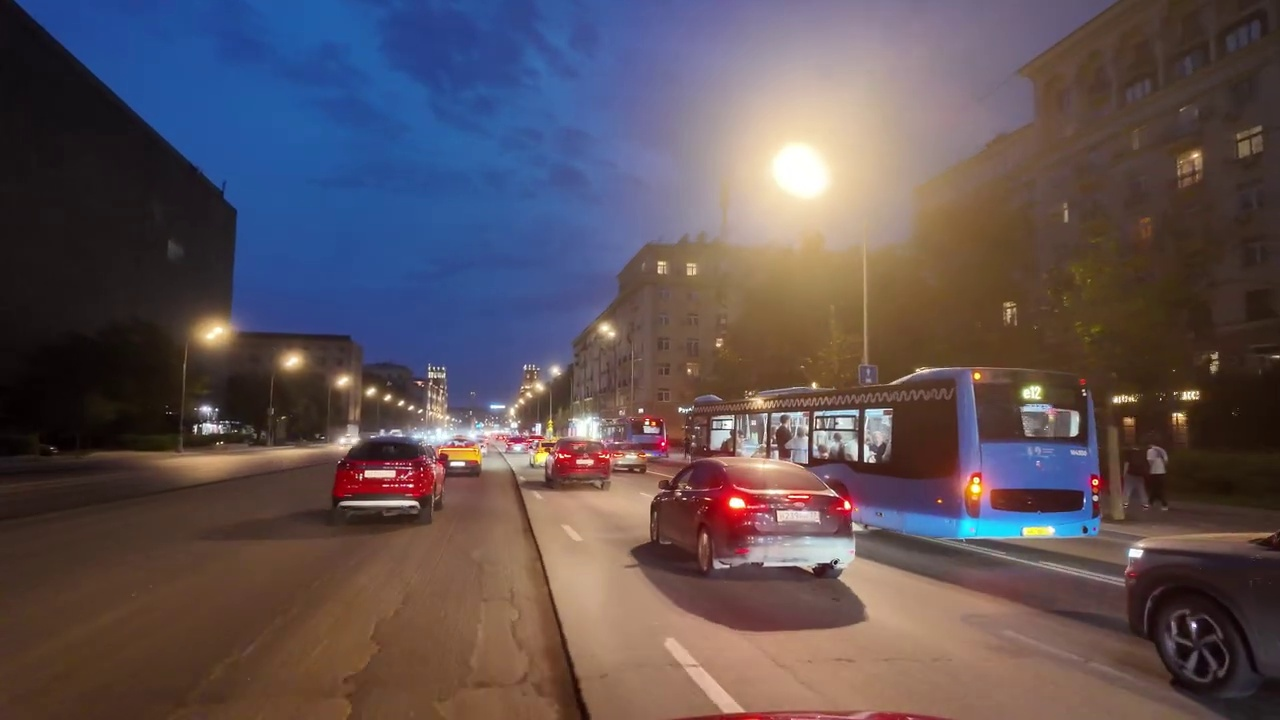acesa: (764, 138, 834, 206), (193, 316, 232, 351), (277, 349, 307, 375), (593, 319, 621, 345)
